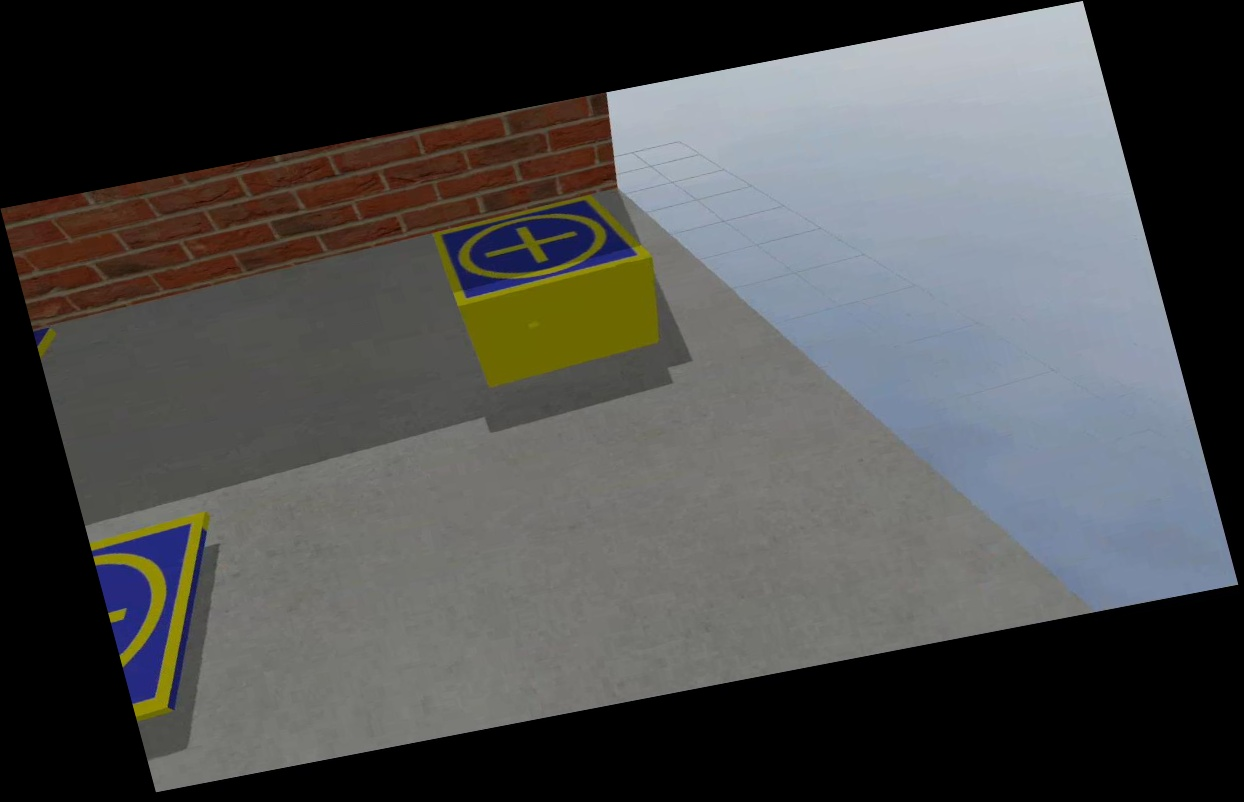small_base: (87, 511, 258, 723), (429, 187, 657, 313)
